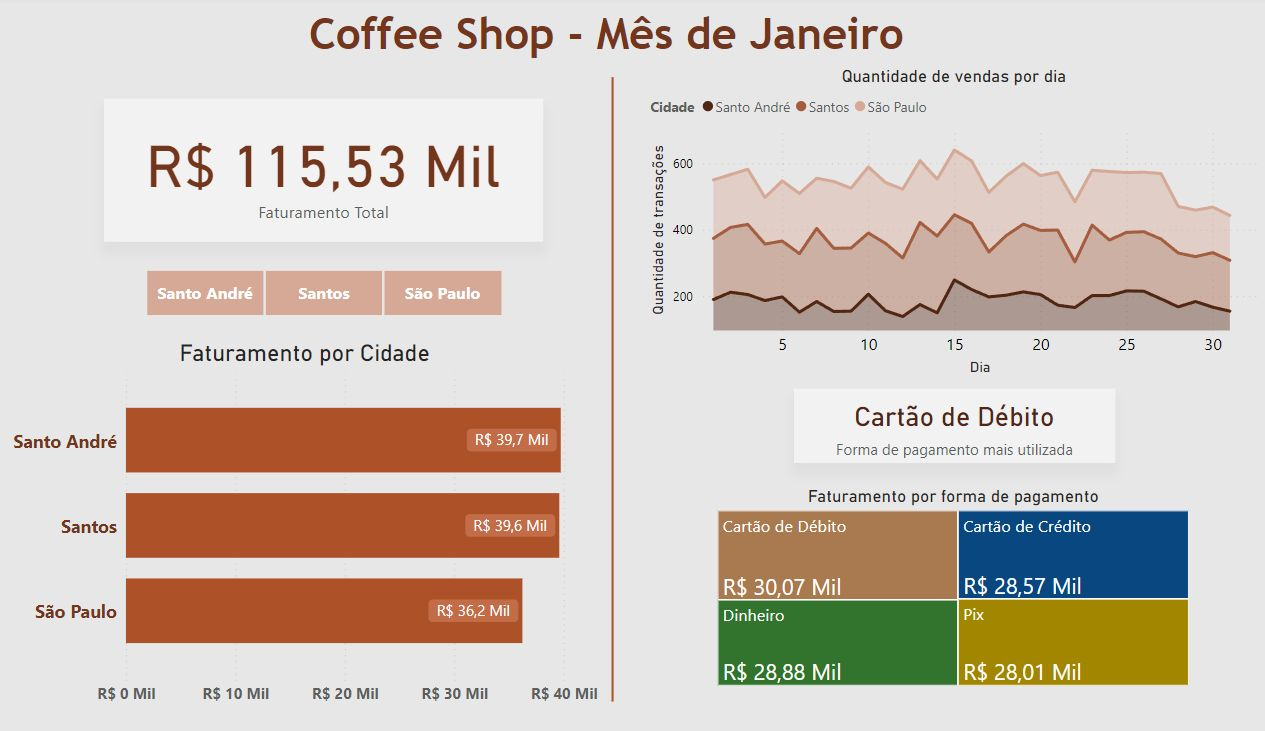

What the dashboard file says about the page in this screenshot:
{"tool":"powerbi","page":{"name":"Faturamento","canvas":[1280,720],"ordinal":0},"visuals":[{"type":"textbox","box":[337.6,6.9,603.8,79.6],"z":0},{"type":"shape","box":[590.1,79.6,97.4,610.6],"z":1000},{"type":"barChart","title":"Faturamento por Cidade","fields":{"Category":["Transacoes.Cidade"],"Y":["Sum(Transacoes.Preço produto)"]},"box":[46.7,334.8,583.2,367.8],"z":2000},{"type":"card","fields":{"Values":["Transacoes.Faturamento Total"]},"box":[141.3,100.2,429.5,140],"z":3000},{"type":"stackedAreaChart","title":"Quantidade de vendas por dia","fields":{"Category":["Transacoes.data_transacao.Variation.Hierarquia de datas.Dia"],"Y":["CountNonNull(Transacoes.data_transacao)"],"Series":["Transacoes.Cidade"]},"box":[671,68.6,603.8,307.4],"z":4000},{"type":"actionButton","box":[0,0,100,40],"z":5000},{"type":"slicer","fields":{"Values":["Transacoes.Cidade"]},"box":[157.8,262.1,396.6,57.6],"z":6000},{"type":"card","fields":{"Values":["Min(Transacoes.Pagamento)"]},"box":[816.5,384.2,314.2,72.7],"z":7000},{"type":"treemap","title":"Faturamento por forma de pagamento","fields":{"Group":["Transacoes.Pagamento"],"Values":["Transacoes.Faturamento Total"]},"box":[736.9,478.9,470.7,200.3],"z":7001}]}

Visuals, with their boxes in screenshot pixels (x1, y1, x2, y2), scaled from the page's 1280x720 canvas onto the 1265x731 screenshot:
textbox: x1=334, y1=7, x2=930, y2=88
shape: x1=583, y1=81, x2=679, y2=701
"Faturamento por Cidade" barChart: x1=46, y1=340, x2=623, y2=713
card - Transacoes.Faturamento Total: x1=140, y1=102, x2=564, y2=244
"Quantidade de vendas por dia" stackedAreaChart: x1=663, y1=70, x2=1260, y2=382
actionButton: x1=0, y1=0, x2=99, y2=41
slicer - Transacoes.Cidade: x1=156, y1=266, x2=548, y2=325
card - Min(Transacoes.Pagamento): x1=807, y1=390, x2=1117, y2=464
"Faturamento por forma de pagamento" treemap: x1=728, y1=486, x2=1193, y2=690
